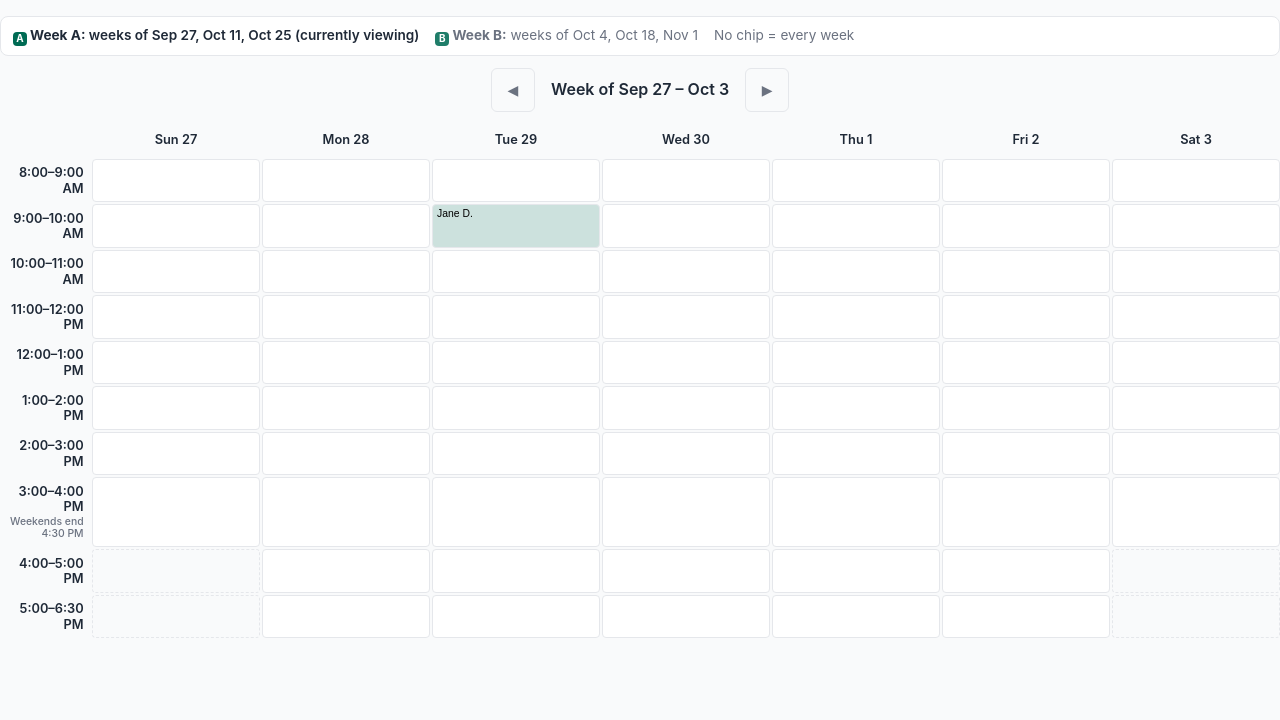
Scenario: ScheduleOverview › clicking a non-empty cell opens a popover listing member names
Click the cell "Jane D.".
click(516, 226)  # box [432,204,600,248]
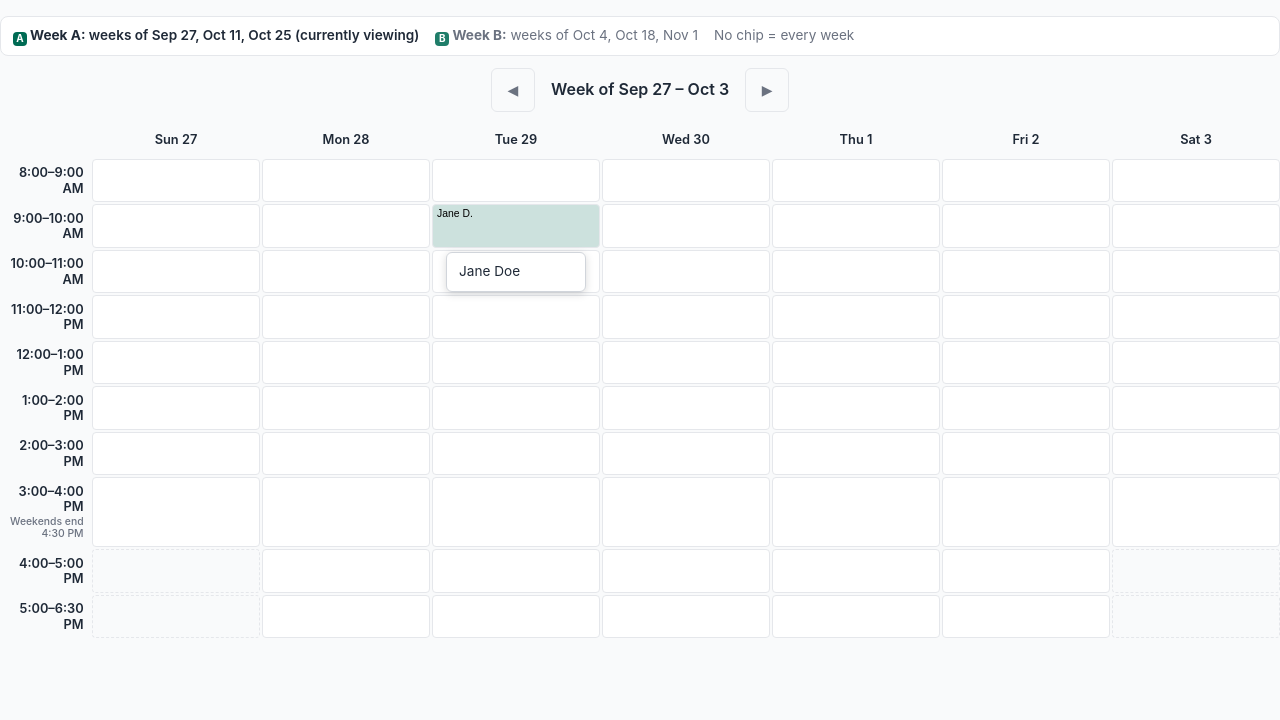
expect the text "Jane Doe" is shown: met, box [459,261,520,283]
